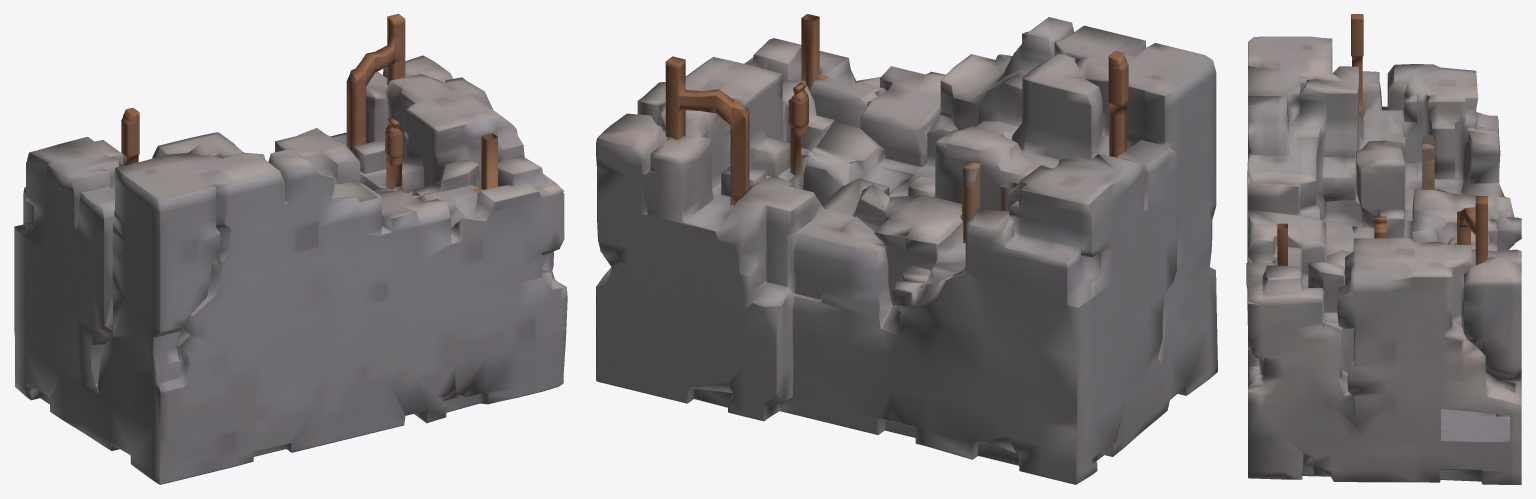
Rendered from wall_broken.glb.
3 views of the same model, side by side, from view 1: azimuth 30°, elevation 25°; view 2: azimuth 150°, elevation 25°; view 3: azimuth 270°, elevation 25° (orthographic). The views are drawn at different scales.
Parts seen in each view (by area): view 1: tripo_node_20c82c25-6326-4151-8e30-56a5fa171e53; view 2: tripo_node_20c82c25-6326-4151-8e30-56a5fa171e53; view 3: tripo_node_20c82c25-6326-4151-8e30-56a5fa171e53.
Part boxes in pixels (x1,y1,x2,y2): tripo_node_20c82c25-6326-4151-8e30-56a5fa171e53: (14,14,567,484); tripo_node_20c82c25-6326-4151-8e30-56a5fa171e53: (596,14,1217,484); tripo_node_20c82c25-6326-4151-8e30-56a5fa171e53: (1246,14,1521,484).
Size of the model in its own units: 1 by 0.7339 by 0.6067.
1 material, 1 textured.
